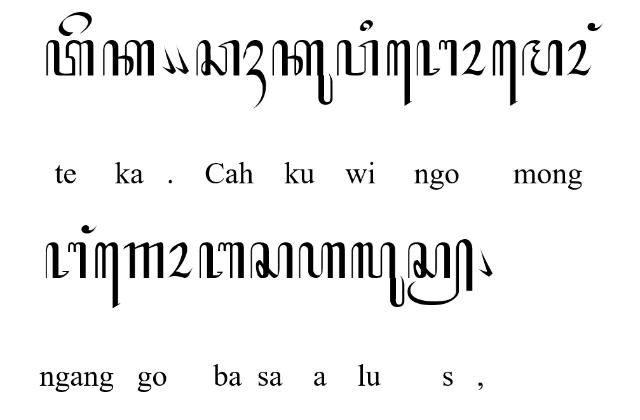-s: (407, 238, 473, 306)
_h1: (244, 40, 266, 109)
b: (200, 242, 244, 278)
c: (196, 40, 240, 77)
e: (58, 12, 92, 36)
e1: (386, 39, 412, 107), (492, 40, 518, 106), (96, 242, 120, 310)
g: (124, 243, 164, 279)
h: (298, 243, 346, 280)
i: (359, 20, 373, 32)
k: (103, 40, 155, 77)
kom: (162, 45, 176, 74), (175, 45, 189, 74), (479, 248, 493, 276)
ku: (272, 39, 334, 105)
lu: (352, 242, 404, 308)
m: (522, 40, 562, 77)
ng: (587, 22, 603, 32), (81, 226, 97, 234)
nga: (45, 242, 87, 278), (417, 40, 458, 76)
o: (461, 40, 487, 77), (566, 40, 592, 76), (168, 243, 192, 280)
s: (250, 243, 294, 280)
t: (46, 40, 94, 76)
w: (336, 40, 378, 77)
